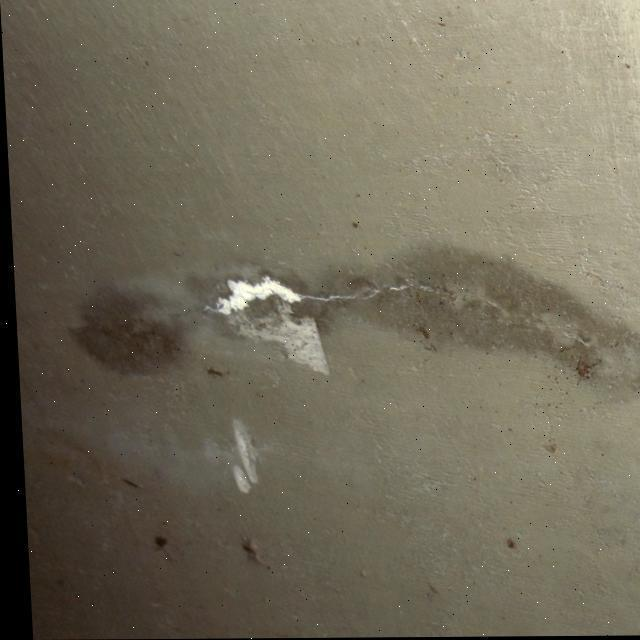D01: (218, 278, 301, 317)
